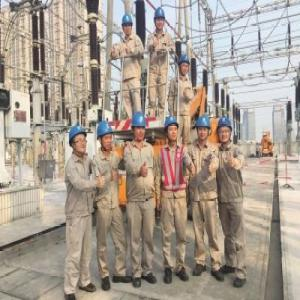blue: (70, 124, 89, 158), (132, 111, 148, 143), (98, 122, 114, 152), (165, 117, 180, 144), (218, 116, 232, 144), (197, 116, 211, 142), (154, 8, 166, 30), (123, 14, 134, 35), (180, 55, 190, 75)
